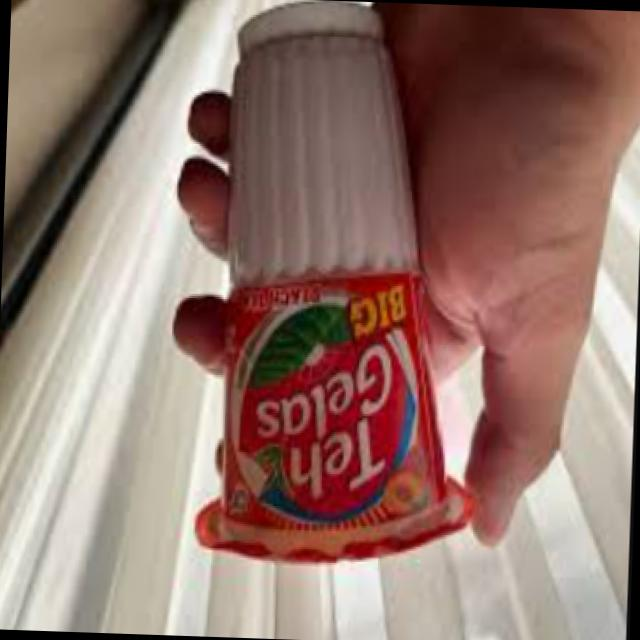GelasPlastik: (193, 0, 498, 574)
